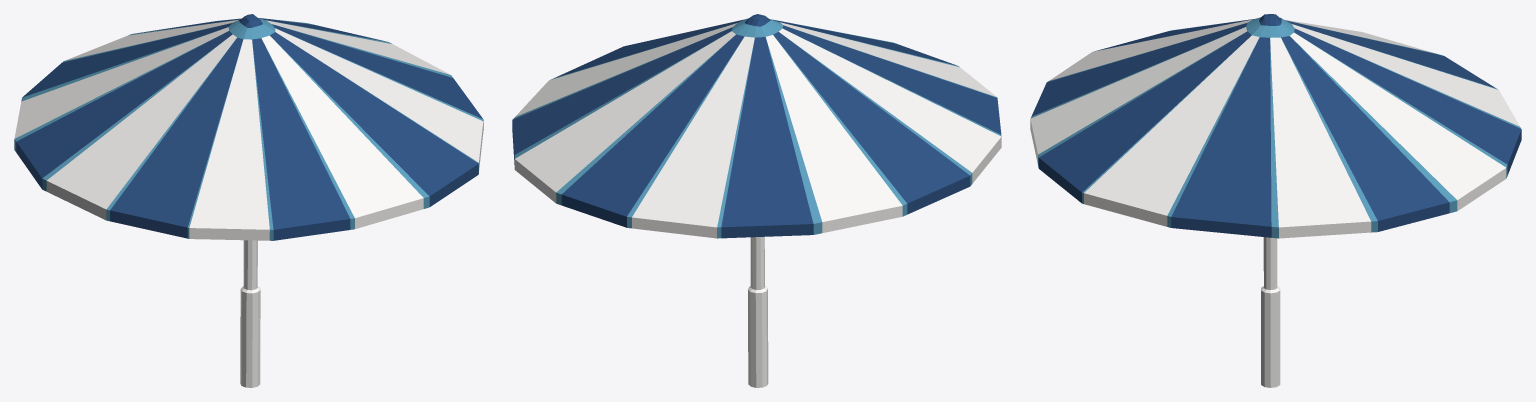
Rendered from Isl_11_Umbrella_2.fbx.
The picture shows the model from 3 angles, left to right: view 1: azimuth 30°, elevation 25°; view 2: azimuth 150°, elevation 25°; view 3: azimuth 270°, elevation 25°; orthographic projection.
Visible parts, largest first — view 1: Isl_11_Umbrella_2; view 2: Isl_11_Umbrella_2; view 3: Isl_11_Umbrella_2.
Boxes of the visible parts, x1=… form: Isl_11_Umbrella_2: x1=14, y1=14, x2=483, y2=387; Isl_11_Umbrella_2: x1=512, y1=14, x2=1001, y2=387; Isl_11_Umbrella_2: x1=1030, y1=14, x2=1521, y2=387.
Size of the model in its own units: 307 by 314 by 260.
1 material, 1 textured.
